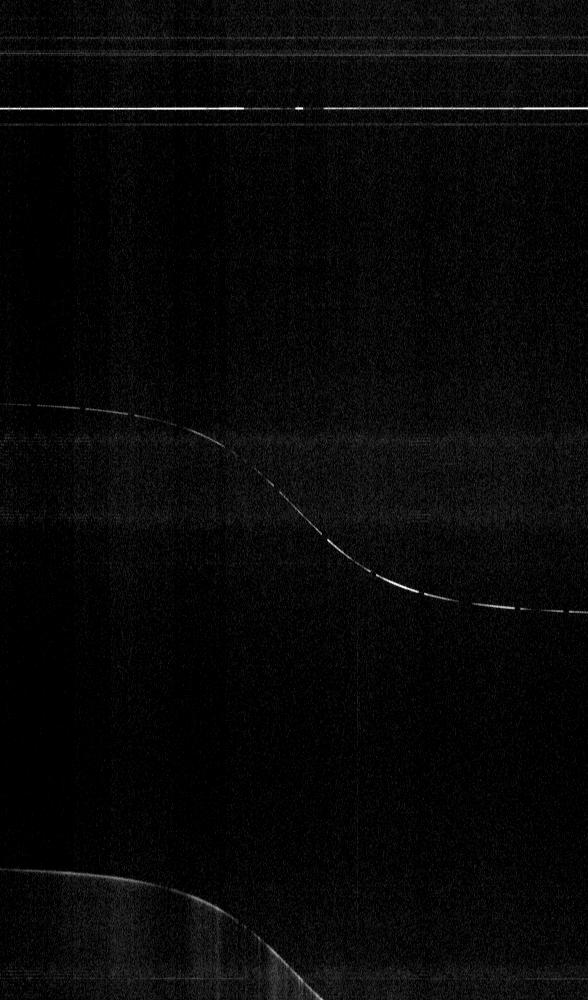signal: (0, 0, 587, 999)
